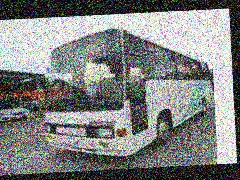bus: (35, 22, 215, 161)
